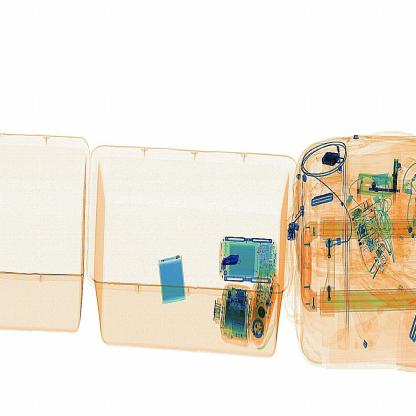knife: (217, 249, 246, 275)
